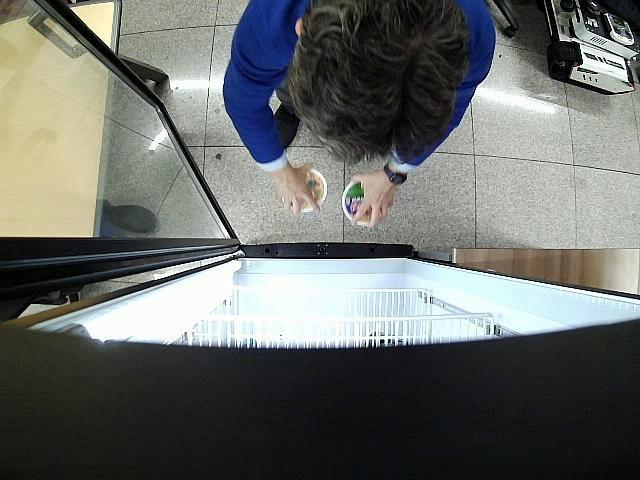09_yukGaeJang: (282, 168, 328, 212), (342, 182, 382, 226)
